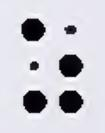sa: (22, 18, 84, 113)
